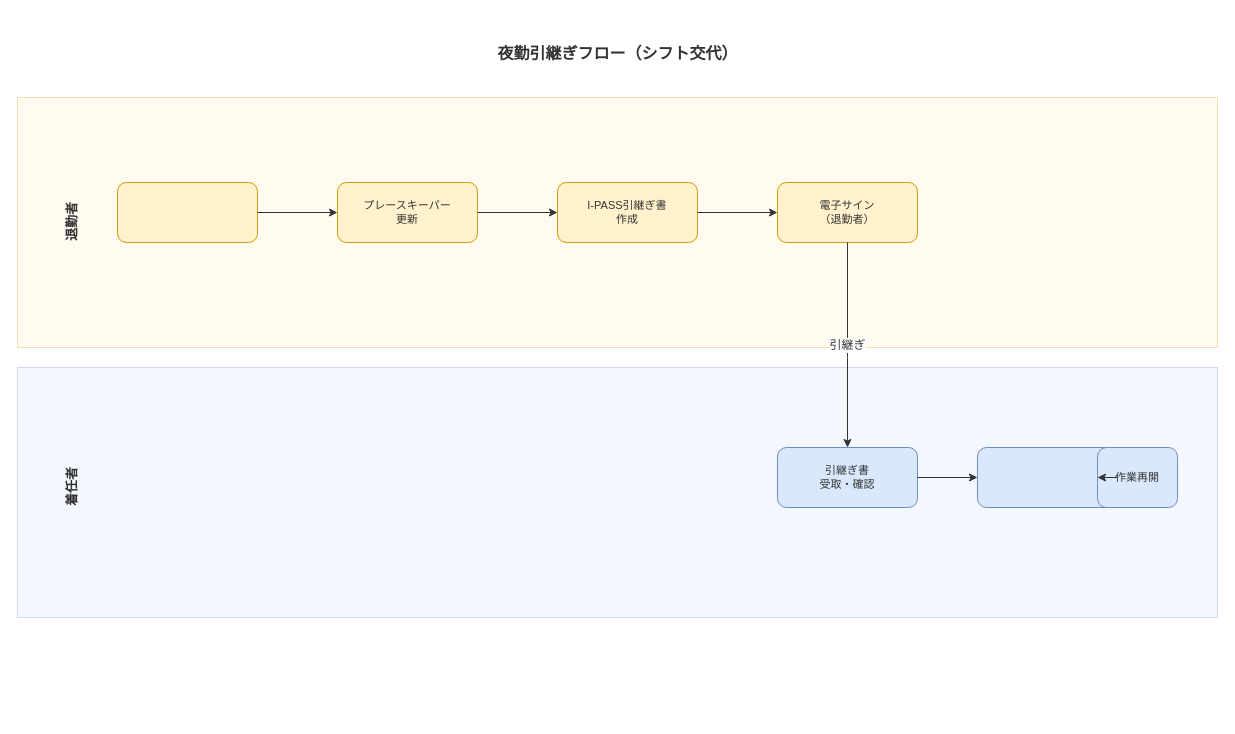
Image size: 1235x734. Some labels were removed from this diagram. The box of each missing label's shape, as (x1, y1, x2, y2) in pixels:
プレースキーパー 確認: (976, 446, 1118, 508)
仕掛品 状況確認: (116, 182, 258, 242)
